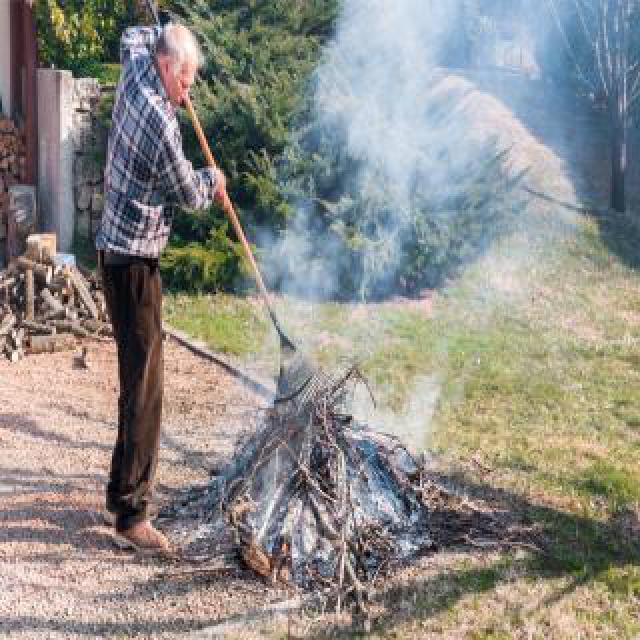Smoke: (248, 0, 628, 519)
